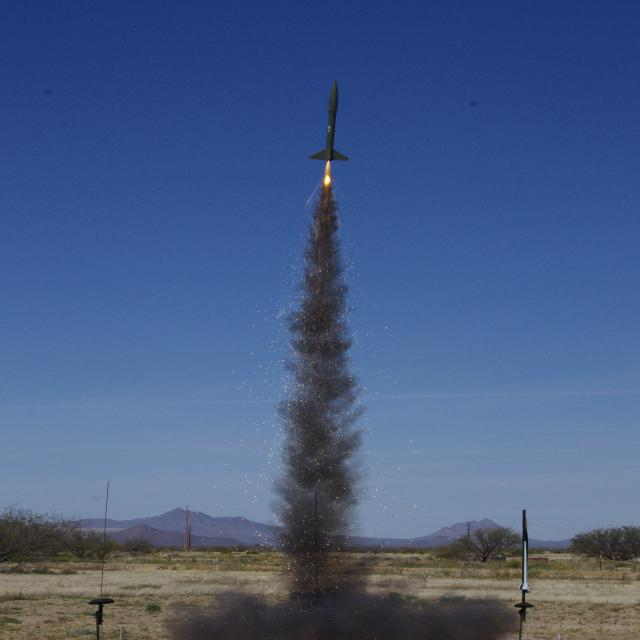Rocket: (309, 78, 350, 161), (518, 528, 530, 591)
